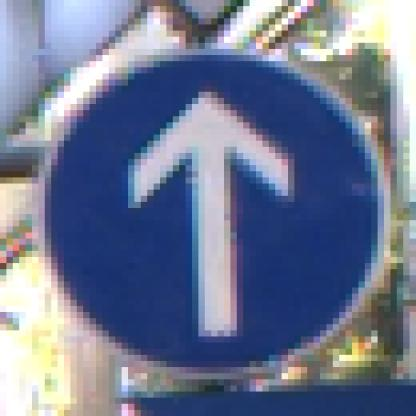AheadOnly: (33, 38, 379, 374)
